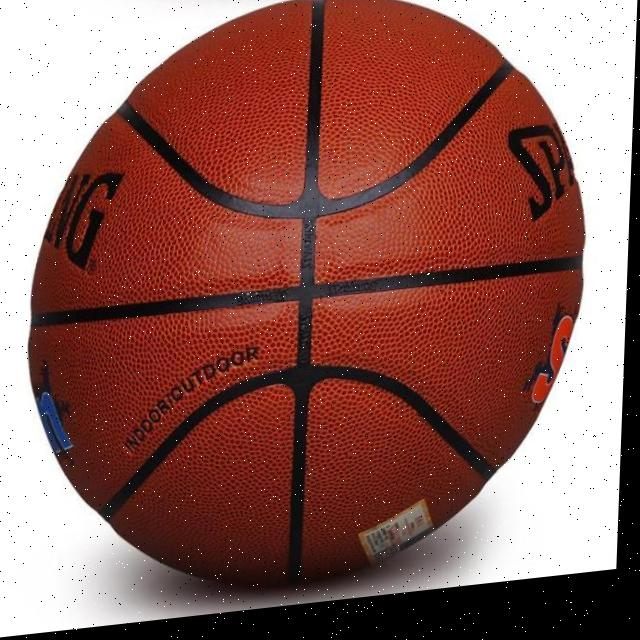Basketball: (16, 0, 594, 618)
